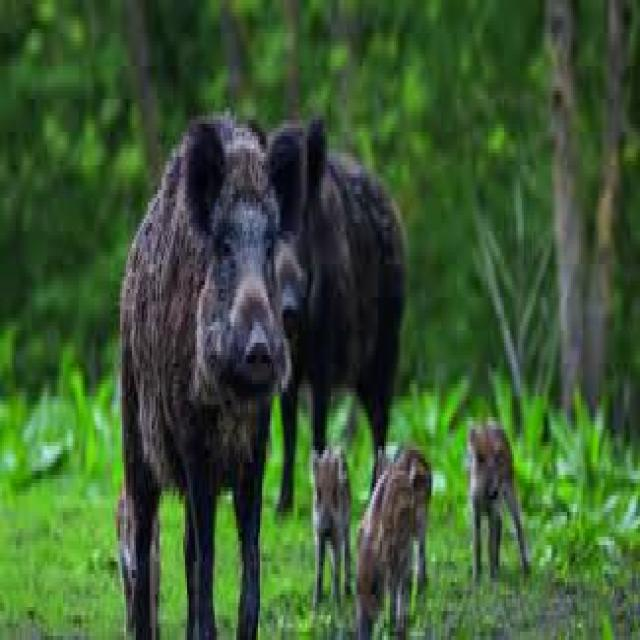Boar: (114, 158, 307, 636), (308, 434, 533, 633), (271, 108, 410, 412)
